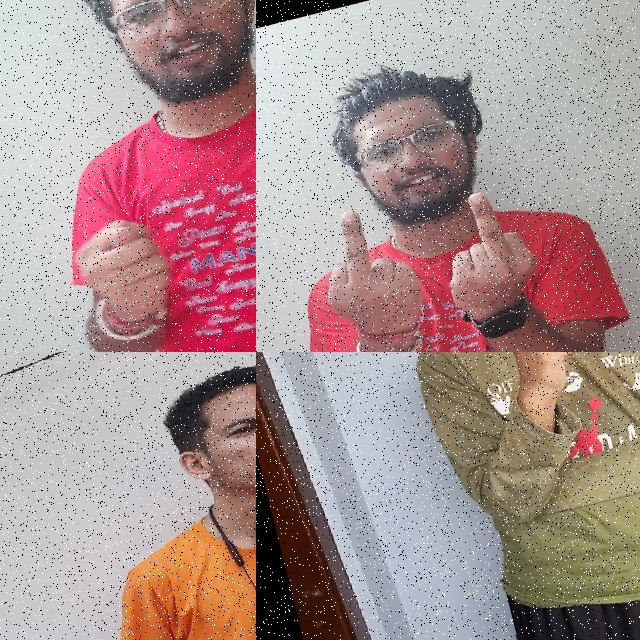Chin Flick: (146, 352, 256, 571)
Dulya: (59, 200, 188, 339), (491, 352, 610, 442)
Middle Finger: (420, 174, 559, 352), (306, 192, 449, 352)
